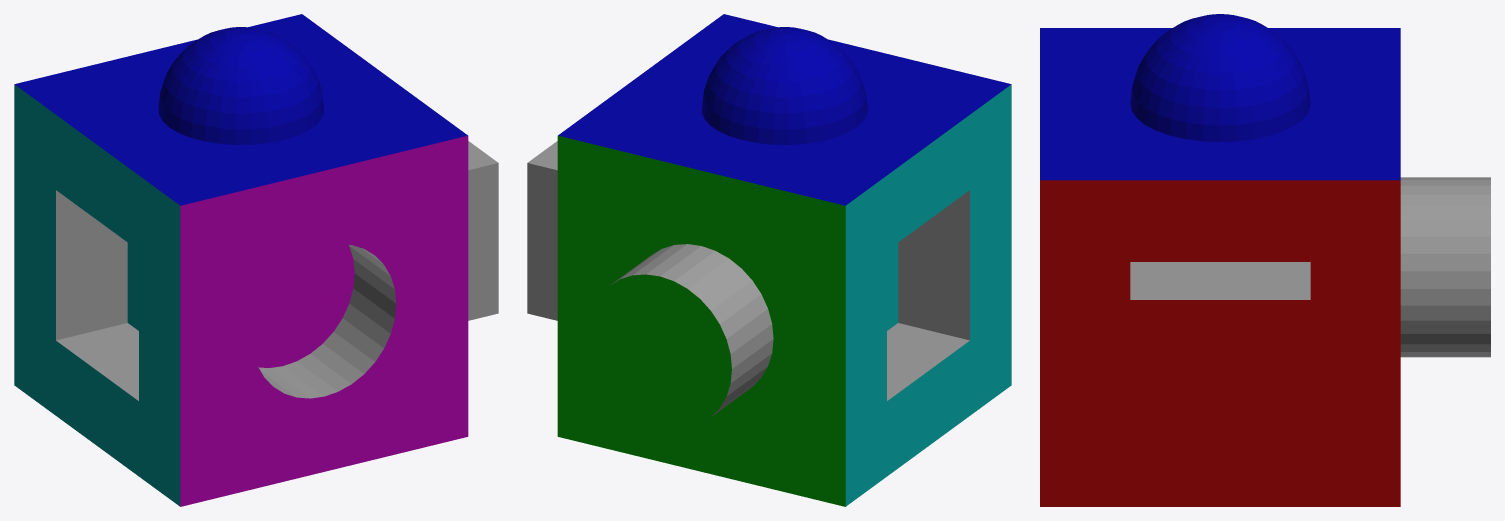
The model's file is OrientationCubeYUp.dae.
The picture shows the model from 3 angles, left to right: view 1: azimuth 30°, elevation 25°; view 2: azimuth 150°, elevation 25°; view 3: azimuth 270°, elevation 25°; orthographic projection. The views are drawn at different scales.
Parts seen in each view (by area): view 1: Cube; view 2: Cube; view 3: Cube.
Boxes of the visible parts, x1,y1,x2,y2 form: Cube: (14, 14, 498, 506); Cube: (527, 14, 1011, 506); Cube: (1040, 14, 1490, 506).
Size of the model in its own units: 1.25 by 1.25 by 1.25.
